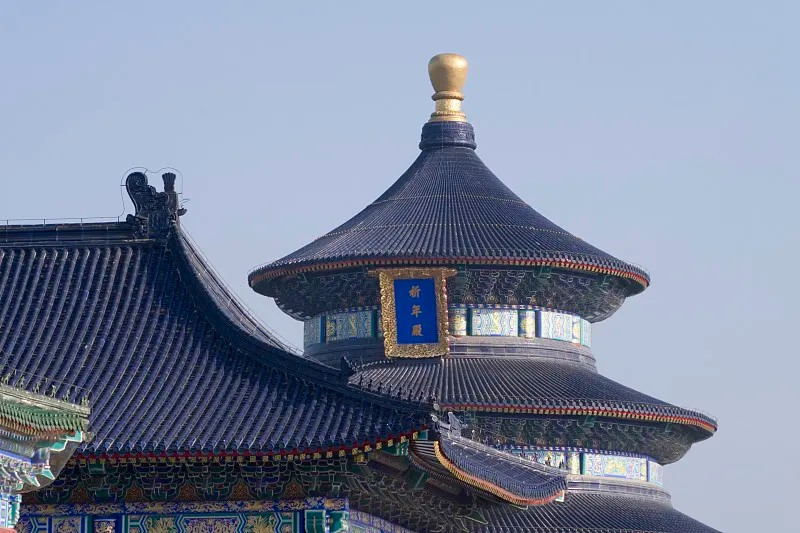Heaven: (247, 53, 723, 533)
